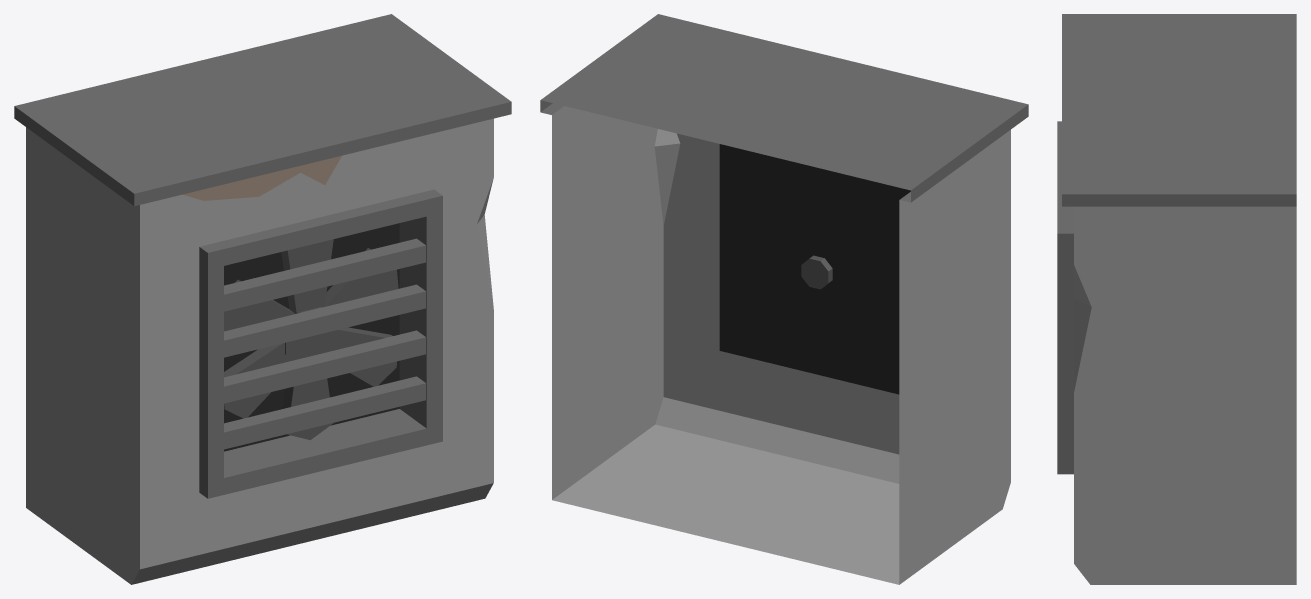
File: SM_Buildings_Part_35.fbx
3 renders of one model, left to right at view 1: azimuth 30°, elevation 25°; view 2: azimuth 150°, elevation 25°; view 3: azimuth 270°, elevation 25°, orthographic. The views are drawn at different scales.
Parts seen in each view (by area): view 1: SM_Buildings_Part_35; view 2: SM_Buildings_Part_35; view 3: SM_Buildings_Part_35.
Boxes of the visible parts, bbox=[...] form: SM_Buildings_Part_35: bbox=[14, 14, 511, 584]; SM_Buildings_Part_35: bbox=[540, 14, 1028, 584]; SM_Buildings_Part_35: bbox=[1057, 14, 1296, 584].
Bounding box in the file's own units: 57.7 × 59.13 × 32.4.
